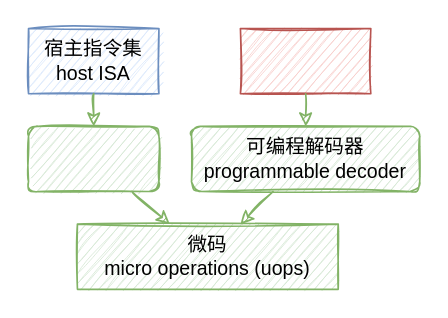
This 448x318 diagram has some shape labels left out. The centre of each missing label's shape, as x and y in pixels:
"客户指令集 guest ISA" belongs at [305,60].
"硬件解码器 HW decoder" belongs at [93,158].
